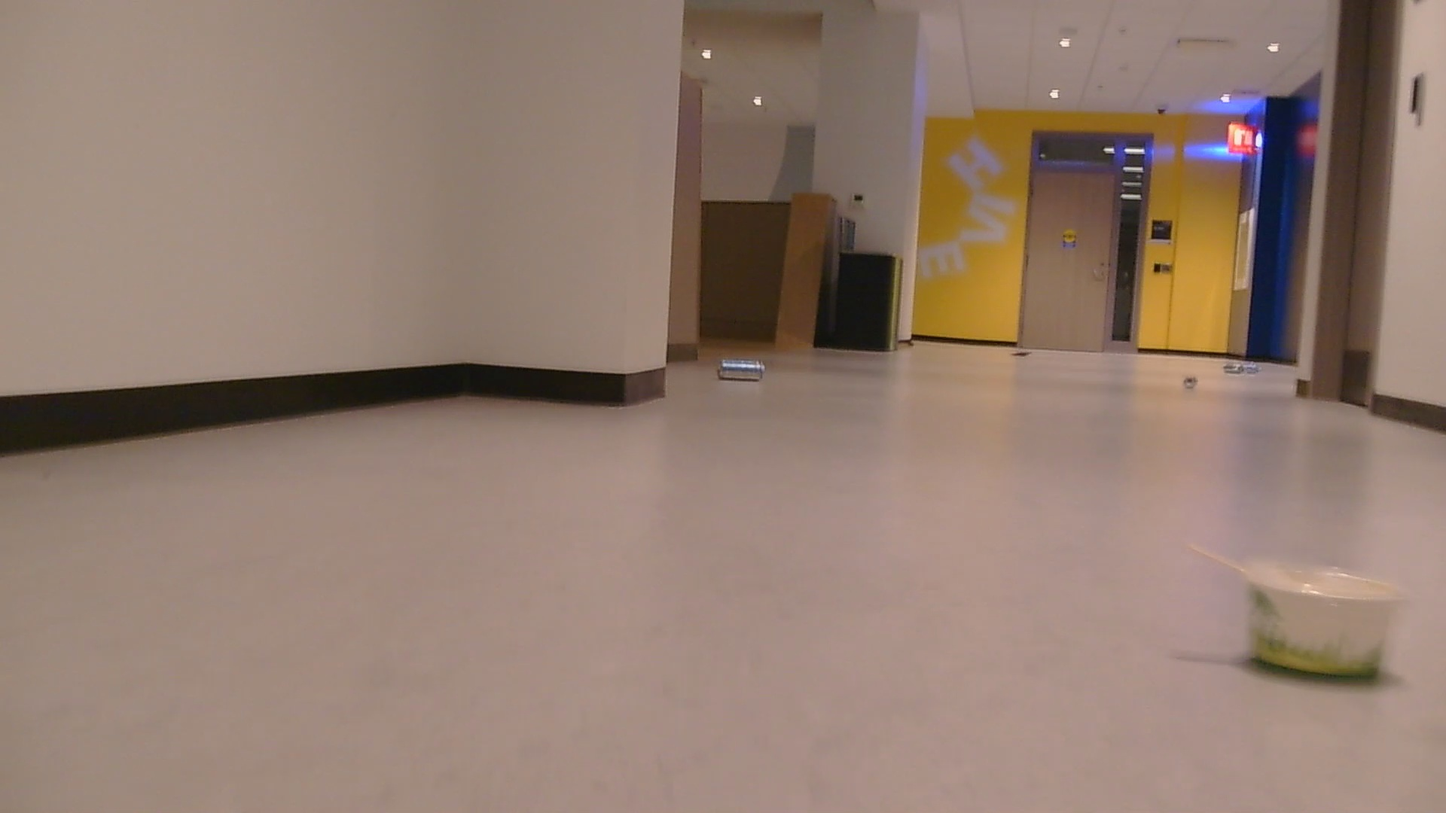carton: (1231, 551, 1398, 681), (712, 355, 772, 385), (1225, 358, 1262, 370), (1014, 343, 1035, 361), (1185, 373, 1201, 395)
